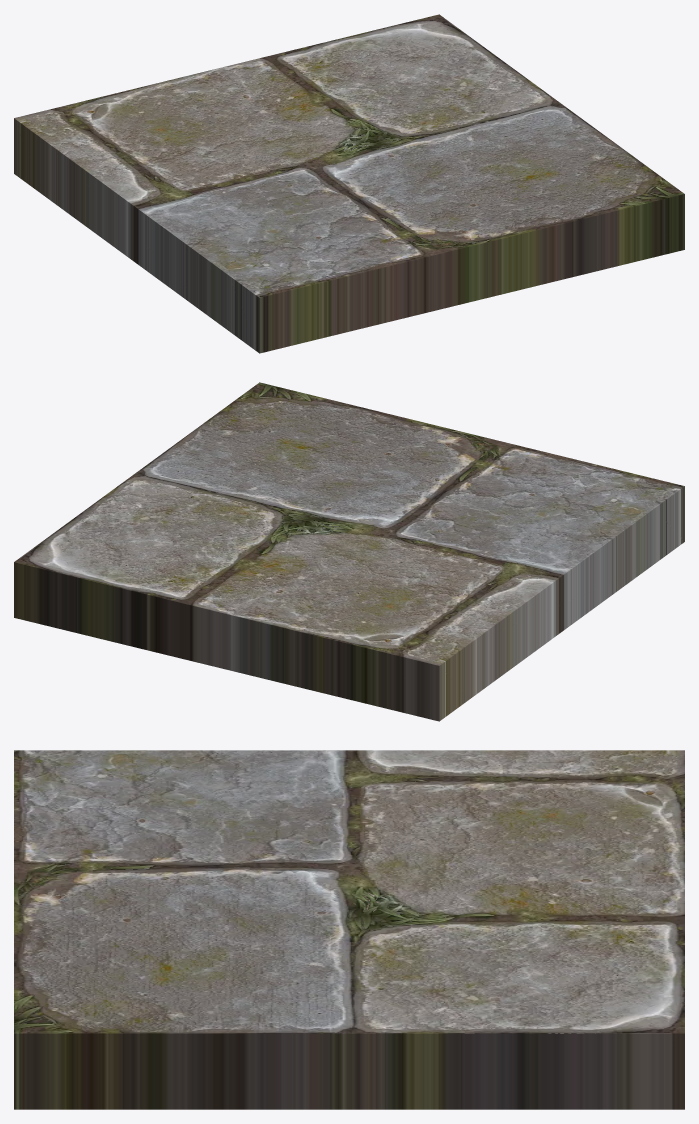
3 views of the same model, one above another, from view 1: azimuth 30°, elevation 25°; view 2: azimuth 150°, elevation 25°; view 3: azimuth 270°, elevation 25° (orthographic). The views are drawn at different scales.
Visible parts, largest first — view 1: SM_DR_Walkway_Floor_4x4_01_LOD0; view 2: SM_DR_Walkway_Floor_4x4_01_LOD0; view 3: SM_DR_Walkway_Floor_4x4_01_LOD0.
Part boxes in pixels (<box>): SM_DR_Walkway_Floor_4x4_01_LOD0: <box>14,14,684,353</box>; SM_DR_Walkway_Floor_4x4_01_LOD0: <box>14,382,684,721</box>; SM_DR_Walkway_Floor_4x4_01_LOD0: <box>14,750,684,1109</box>.
Bounding box in the file's own units: 4 × 0.5 × 4.
Materials: 1 (1 with a texture image).
